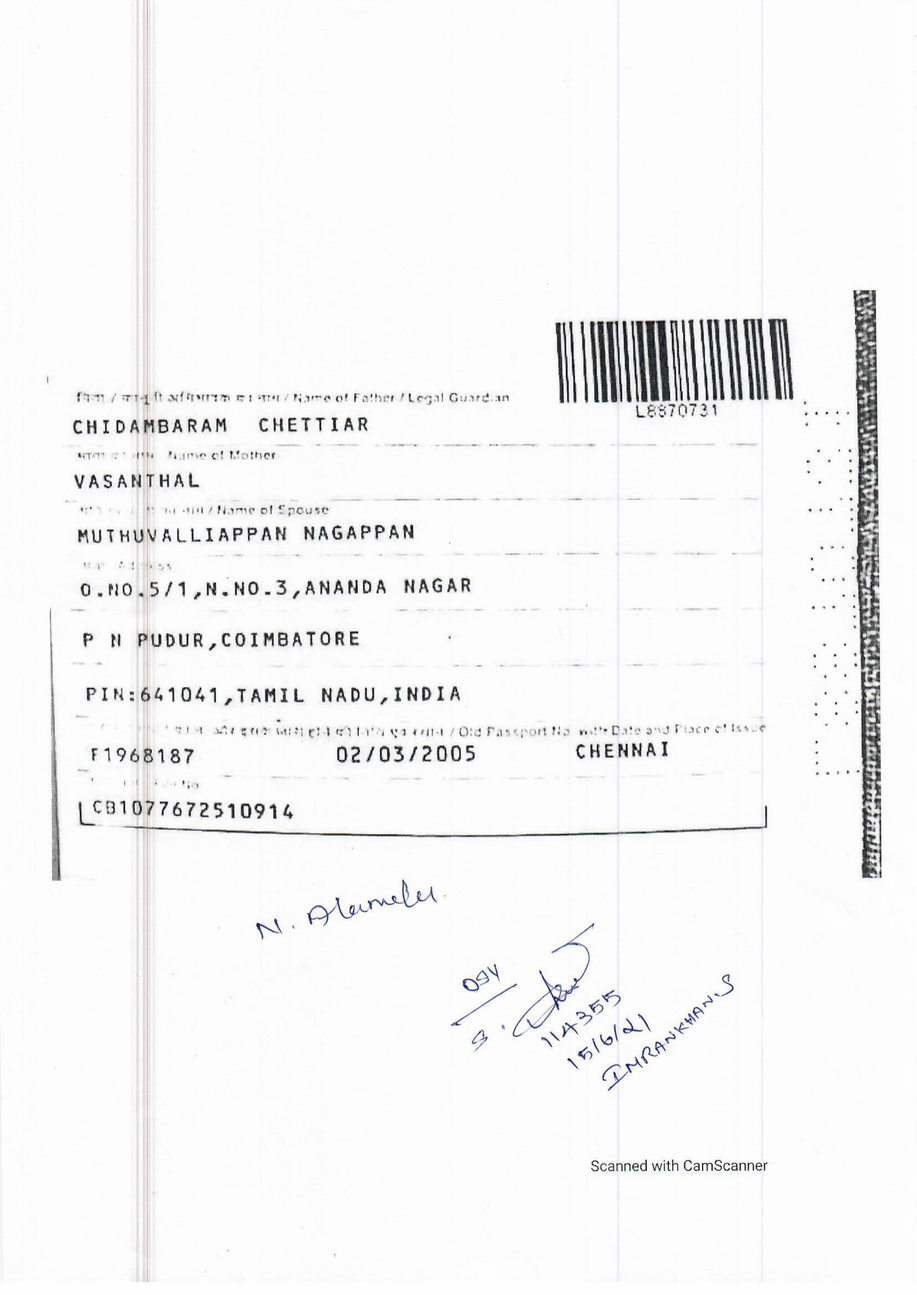File_no: (75, 786, 312, 842)
address: (63, 546, 499, 720)
father_name: (61, 402, 389, 442)
mother_name: (64, 465, 225, 495)
old_passport_details: (79, 732, 675, 771)
passport_no: (630, 397, 728, 425)
spouse_name: (58, 512, 431, 549)
